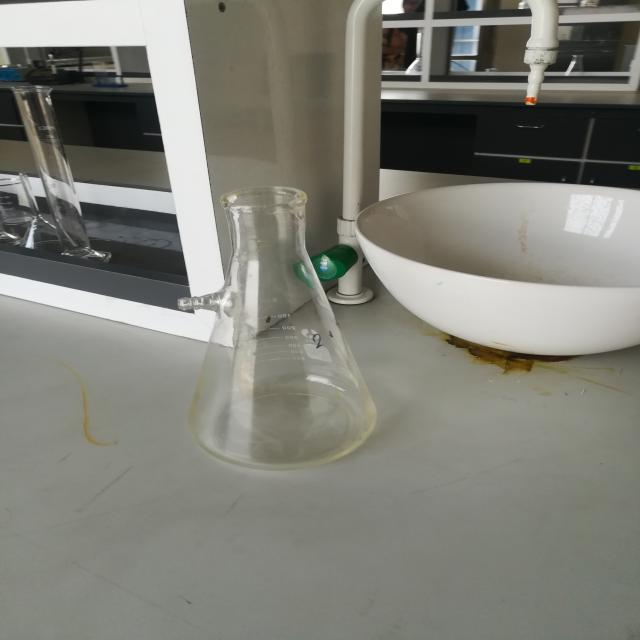Conical_Flask: (142, 134, 392, 494)
